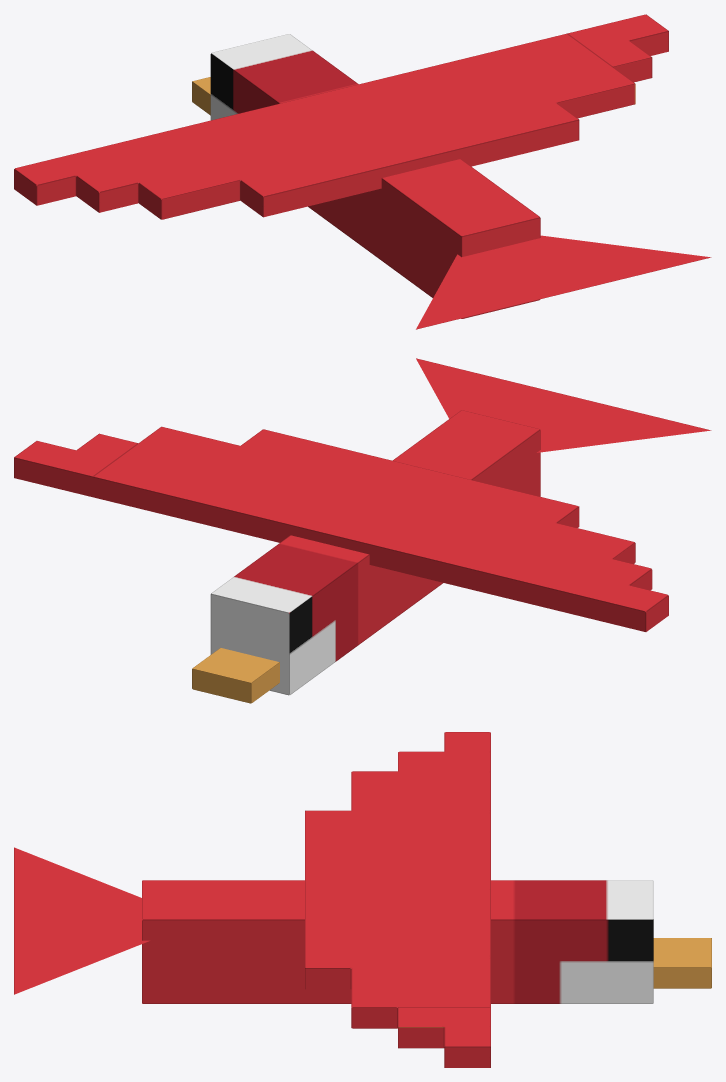
Rendered from Birb2.fbx.
3 renders of one model, top to bottom at view 1: azimuth 30°, elevation 25°; view 2: azimuth 150°, elevation 25°; view 3: azimuth 270°, elevation 25°, orthographic. The views are drawn at different scales.
Visible parts, largest first — view 1: cuboid_1, cuboid, pyramid, cuboid_2; view 2: cuboid_1, cuboid, pyramid, cuboid_2; view 3: cuboid_1, cuboid, pyramid, cuboid_2.
Boxes of the visible parts, x1,y1,x2,y2 form: cuboid_1: [14, 14, 668, 219]; cuboid: [210, 34, 540, 318]; pyramid: [416, 235, 711, 329]; cuboid_2: [192, 77, 210, 115]; cuboid_1: [14, 426, 668, 631]; cuboid: [210, 410, 540, 695]; pyramid: [416, 358, 711, 452]; cuboid_2: [192, 647, 279, 703]; cuboid_1: [305, 732, 490, 1067]; cuboid: [142, 880, 653, 1003]; pyramid: [14, 847, 149, 994]; cuboid_2: [653, 938, 711, 988].
Size of the model in its own units: 100 by 14.06 by 93.75.
Materials: 1 (1 with a texture image).
